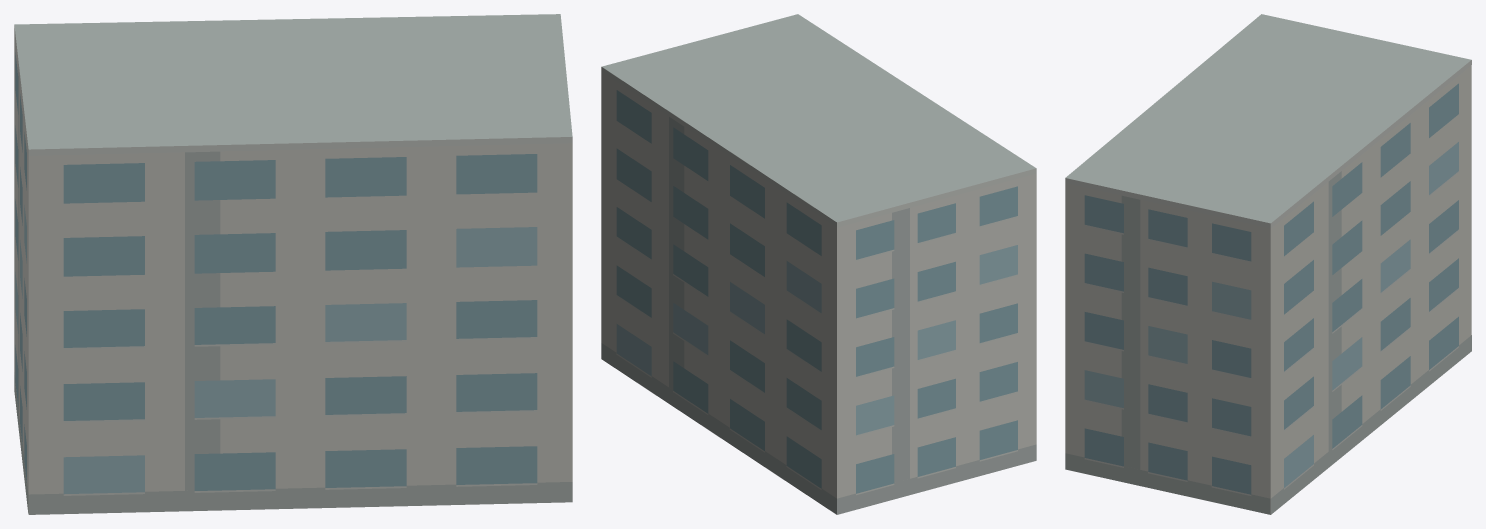
The model's file is survey-upis-33008653.glb.
3 views of the same model, side by side, from view 1: azimuth 30°, elevation 25°; view 2: azimuth 150°, elevation 25°; view 3: azimuth 270°, elevation 25° (orthographic). The views are drawn at different scales.
Visible parts, largest first — view 1: survey-upis-33008653.tmp; view 2: survey-upis-33008653.tmp; view 3: survey-upis-33008653.tmp.
Part boxes in pixels (bbox=[...]): survey-upis-33008653.tmp: bbox=[14, 14, 572, 514]; survey-upis-33008653.tmp: bbox=[601, 14, 1036, 514]; survey-upis-33008653.tmp: bbox=[1065, 14, 1471, 514].
Bounding box in the file's own units: 21.04 × 13.65 × 17.26.
